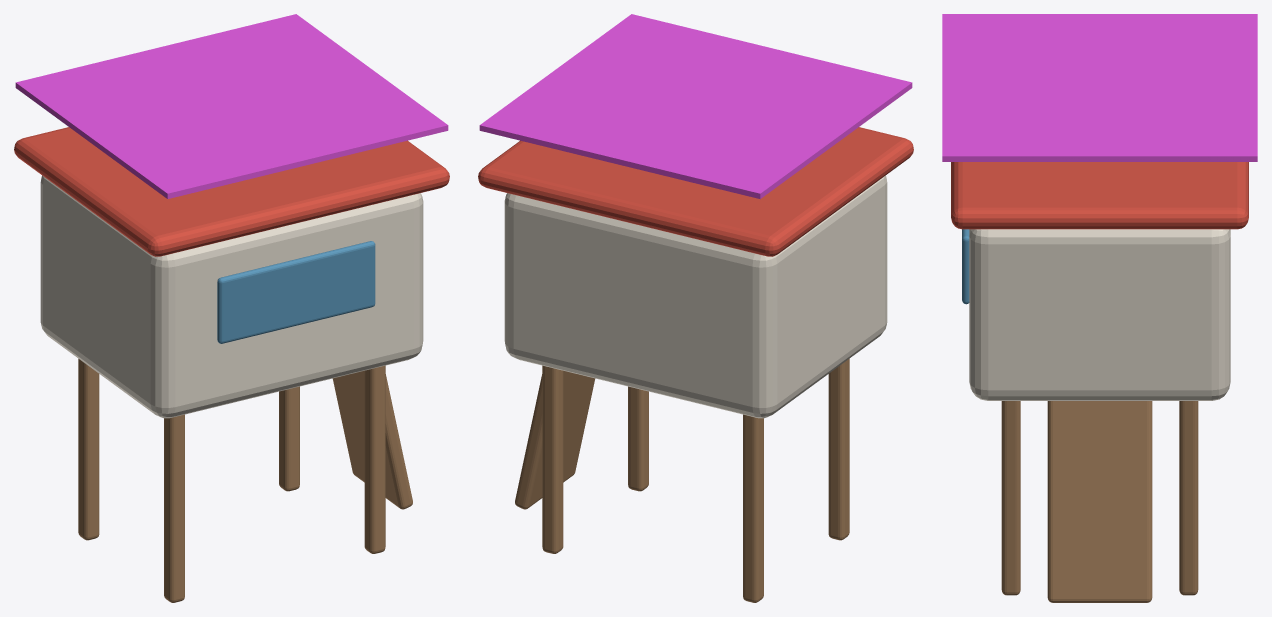
3 renders of one model, left to right at view 1: azimuth 30°, elevation 25°; view 2: azimuth 150°, elevation 25°; view 3: azimuth 270°, elevation 25°, orthographic. The views are drawn at different scales.
Parts seen in each view (by area): view 1: LOD0_LIFEGUARD_TOWER_Cabin, NAV_MASK_LIFEGUARD_TOWER, LOD0_LIFEGUARD_TOWER_Roof, LOD0_LIFEGUARD_TOWER_Window, LOD0_LIFEGUARD_TOWER_Ladder, LOD0_LIFEGUARD_TOWER_Leg.002, LOD0_LIFEGUARD_TOWER_Leg, LOD0_LIFEGUARD_TOWER_Leg.001, LOD0_LIFEGUARD_TOWER_Leg.003; view 2: LOD0_LIFEGUARD_TOWER_Cabin, NAV_MASK_LIFEGUARD_TOWER, LOD0_LIFEGUARD_TOWER_Roof, LOD0_LIFEGUARD_TOWER_Ladder, LOD0_LIFEGUARD_TOWER_Leg.003, LOD0_LIFEGUARD_TOWER_Leg.001, LOD0_LIFEGUARD_TOWER_Leg, LOD0_LIFEGUARD_TOWER_Leg.002; view 3: NAV_MASK_LIFEGUARD_TOWER, LOD0_LIFEGUARD_TOWER_Cabin, LOD0_LIFEGUARD_TOWER_Ladder, LOD0_LIFEGUARD_TOWER_Roof, LOD0_LIFEGUARD_TOWER_Leg.002, LOD0_LIFEGUARD_TOWER_Leg.003, LOD0_LIFEGUARD_TOWER_Window.
Boxes of the visible parts, bbox=[...] form: LOD0_LIFEGUARD_TOWER_Cabin: bbox=[40, 175, 423, 418]; NAV_MASK_LIFEGUARD_TOWER: bbox=[15, 14, 448, 198]; LOD0_LIFEGUARD_TOWER_Roof: bbox=[14, 127, 449, 256]; LOD0_LIFEGUARD_TOWER_Window: bbox=[217, 241, 375, 343]; LOD0_LIFEGUARD_TOWER_Ladder: bbox=[332, 370, 412, 509]; LOD0_LIFEGUARD_TOWER_Leg.002: bbox=[364, 365, 385, 553]; LOD0_LIFEGUARD_TOWER_Leg: bbox=[164, 414, 184, 602]; LOD0_LIFEGUARD_TOWER_Leg.001: bbox=[78, 359, 99, 540]; LOD0_LIFEGUARD_TOWER_Leg.003: bbox=[279, 386, 299, 491]; LOD0_LIFEGUARD_TOWER_Cabin: bbox=[504, 175, 887, 418]; NAV_MASK_LIFEGUARD_TOWER: bbox=[479, 14, 912, 198]; LOD0_LIFEGUARD_TOWER_Roof: bbox=[478, 127, 913, 256]; LOD0_LIFEGUARD_TOWER_Ladder: bbox=[515, 370, 595, 509]; LOD0_LIFEGUARD_TOWER_Leg.003: bbox=[542, 365, 563, 553]; LOD0_LIFEGUARD_TOWER_Leg.001: bbox=[743, 414, 763, 602]; LOD0_LIFEGUARD_TOWER_Leg: bbox=[828, 359, 849, 540]; LOD0_LIFEGUARD_TOWER_Leg.002: bbox=[628, 386, 648, 491]; NAV_MASK_LIFEGUARD_TOWER: bbox=[942, 14, 1257, 161]; LOD0_LIFEGUARD_TOWER_Cabin: bbox=[969, 229, 1230, 400]; LOD0_LIFEGUARD_TOWER_Ladder: bbox=[1047, 401, 1152, 602]; LOD0_LIFEGUARD_TOWER_Roof: bbox=[951, 162, 1248, 229]; LOD0_LIFEGUARD_TOWER_Leg.002: bbox=[1001, 401, 1020, 595]; LOD0_LIFEGUARD_TOWER_Leg.003: bbox=[1179, 401, 1198, 595]; LOD0_LIFEGUARD_TOWER_Window: bbox=[962, 229, 969, 304].
Size of what is drawn, in the model's own units: 3.53 by 4.83 by 3.02.
